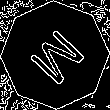M_SE: (21, 21, 89, 89)
